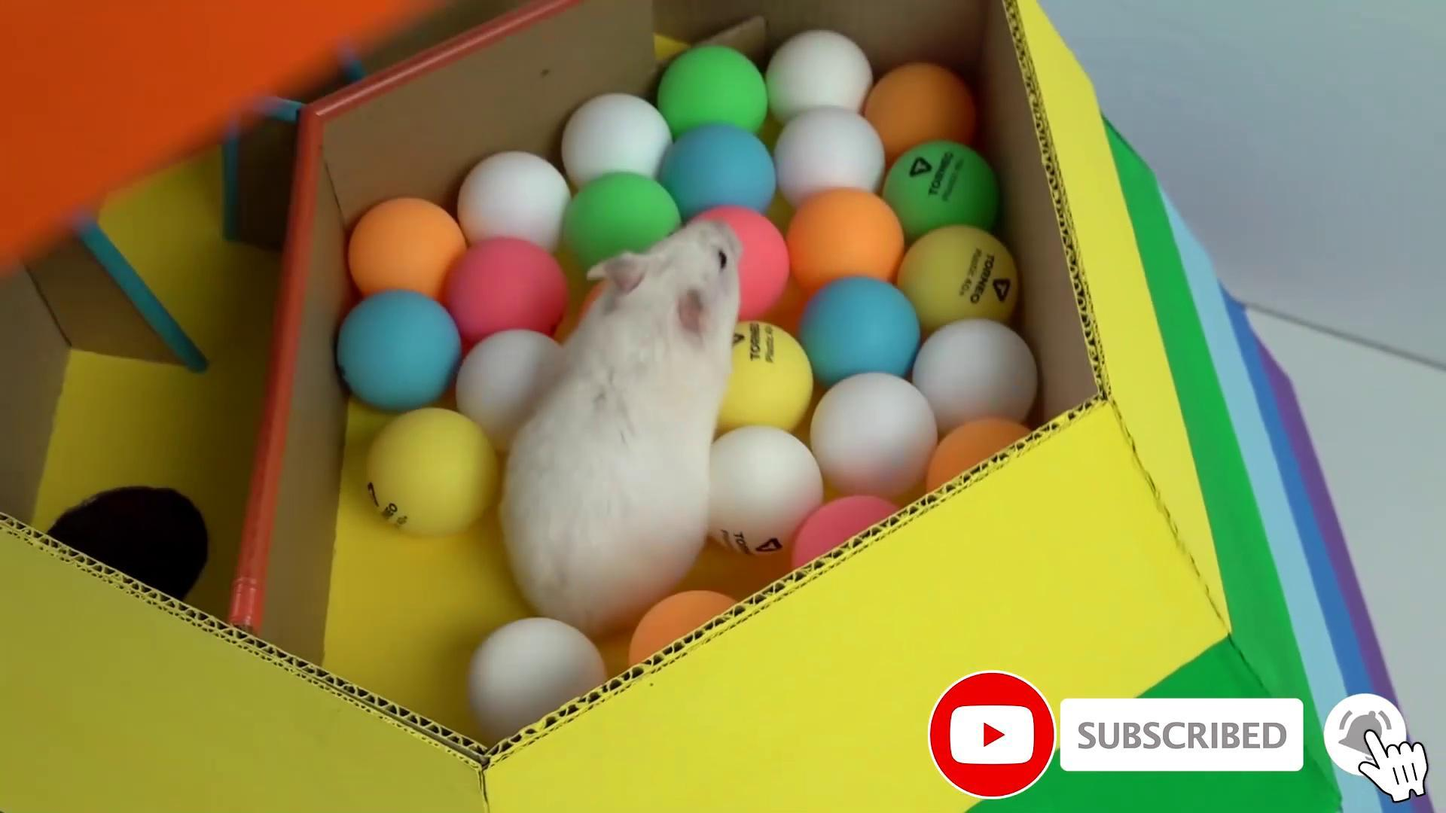rat: (497, 221, 741, 638)
